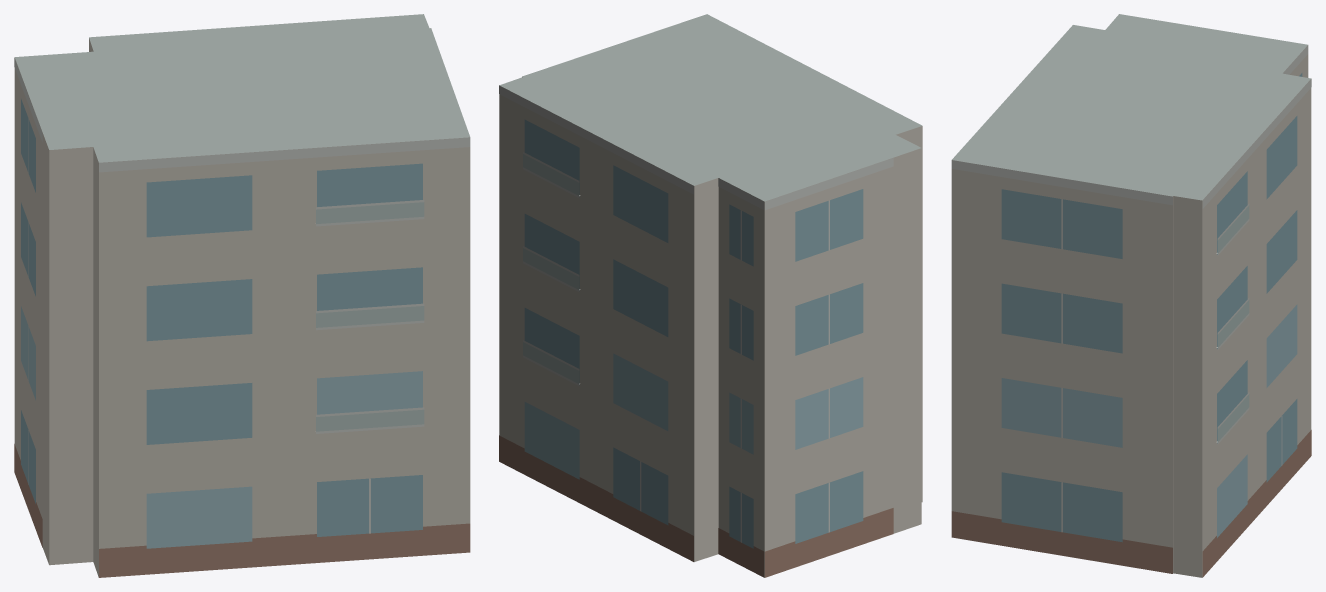
The model's file is survey-upis-32984146.glb.
The picture shows the model from 3 angles, left to right: view 1: azimuth 30°, elevation 25°; view 2: azimuth 150°, elevation 25°; view 3: azimuth 270°, elevation 25°; orthographic projection. The views are drawn at different scales.
Parts seen in each view (by area): view 1: survey-upis-32984146.tmp; view 2: survey-upis-32984146.tmp; view 3: survey-upis-32984146.tmp.
Part boxes in pixels (bbox=[...]): survey-upis-32984146.tmp: bbox=[14, 14, 470, 577]; survey-upis-32984146.tmp: bbox=[499, 14, 922, 577]; survey-upis-32984146.tmp: bbox=[951, 14, 1311, 577].
Size of the model in its own units: 11.03 by 10.4 by 9.
